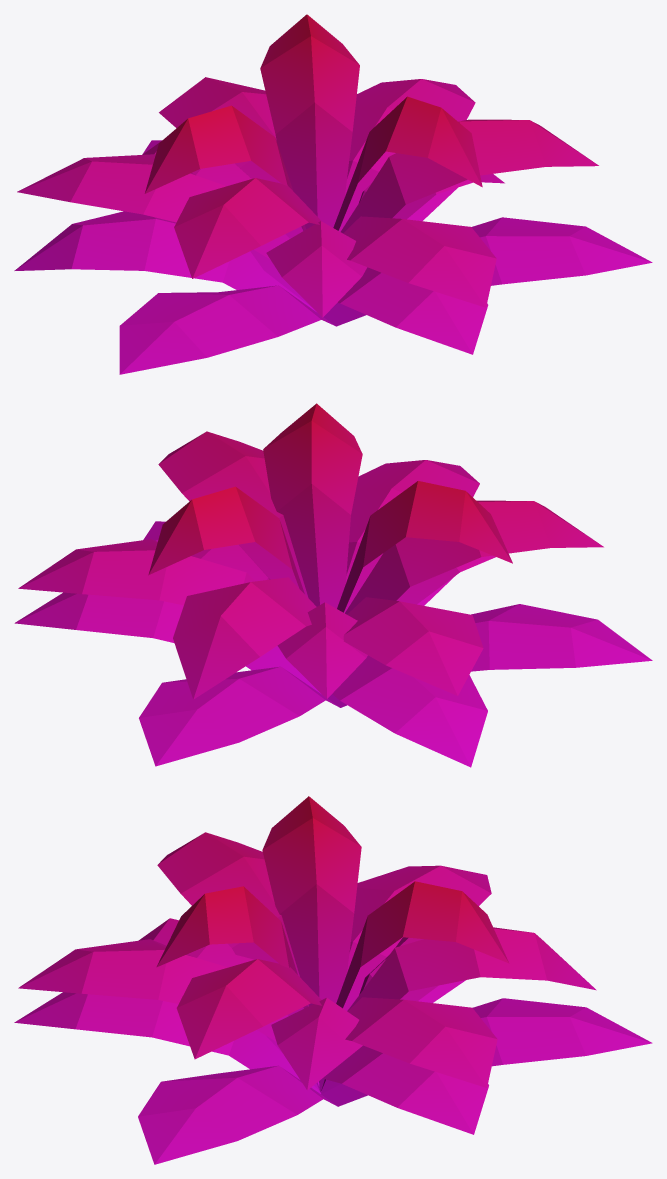
Rendered from SM_Plant_Fern_Leaves_02.gltf.
3 renders of one model, top to bottom at view 1: azimuth 30°, elevation 25°; view 2: azimuth 150°, elevation 25°; view 3: azimuth 270°, elevation 25°, orthographic.
Visible parts, largest first — view 1: SM_Plant_Fern_Leaves_02; view 2: SM_Plant_Fern_Leaves_02; view 3: SM_Plant_Fern_Leaves_02.
Part boxes in pixels (x1,y1,x2,y2): SM_Plant_Fern_Leaves_02: (14,14,652,374); SM_Plant_Fern_Leaves_02: (14,403,652,767); SM_Plant_Fern_Leaves_02: (14,796,652,1164).
Bounding box in the file's own units: 1.29 × 0.5601 × 1.4.
